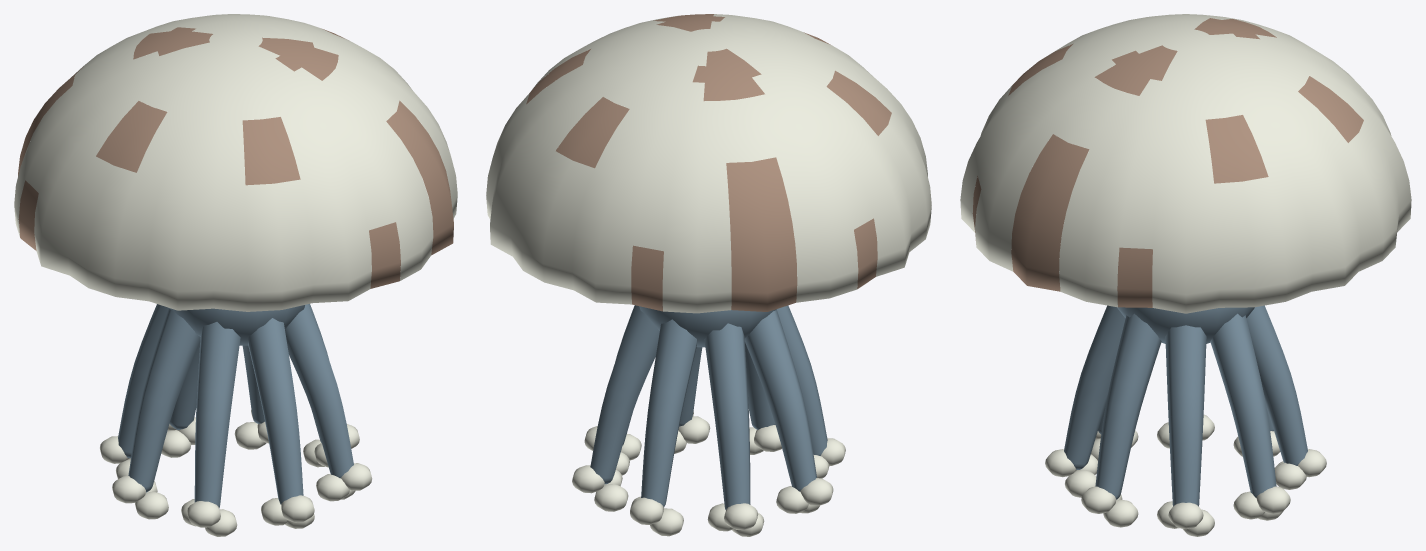
The model's file is jelly_lagoon.glb.
3 views of the same model, side by side, from view 1: azimuth 30°, elevation 25°; view 2: azimuth 150°, elevation 25°; view 3: azimuth 270°, elevation 25° (orthographic).
Parts seen in each view (by area): view 1: spotted-lagoon-jellyfish; view 2: spotted-lagoon-jellyfish; view 3: spotted-lagoon-jellyfish.
Part boxes in pixels (x1,y1,x2,y2): spotted-lagoon-jellyfish: (14, 14, 457, 536); spotted-lagoon-jellyfish: (486, 14, 931, 536); spotted-lagoon-jellyfish: (960, 14, 1411, 536).
Size of the model in its own units: 0.32 by 0.3538 by 0.32.
